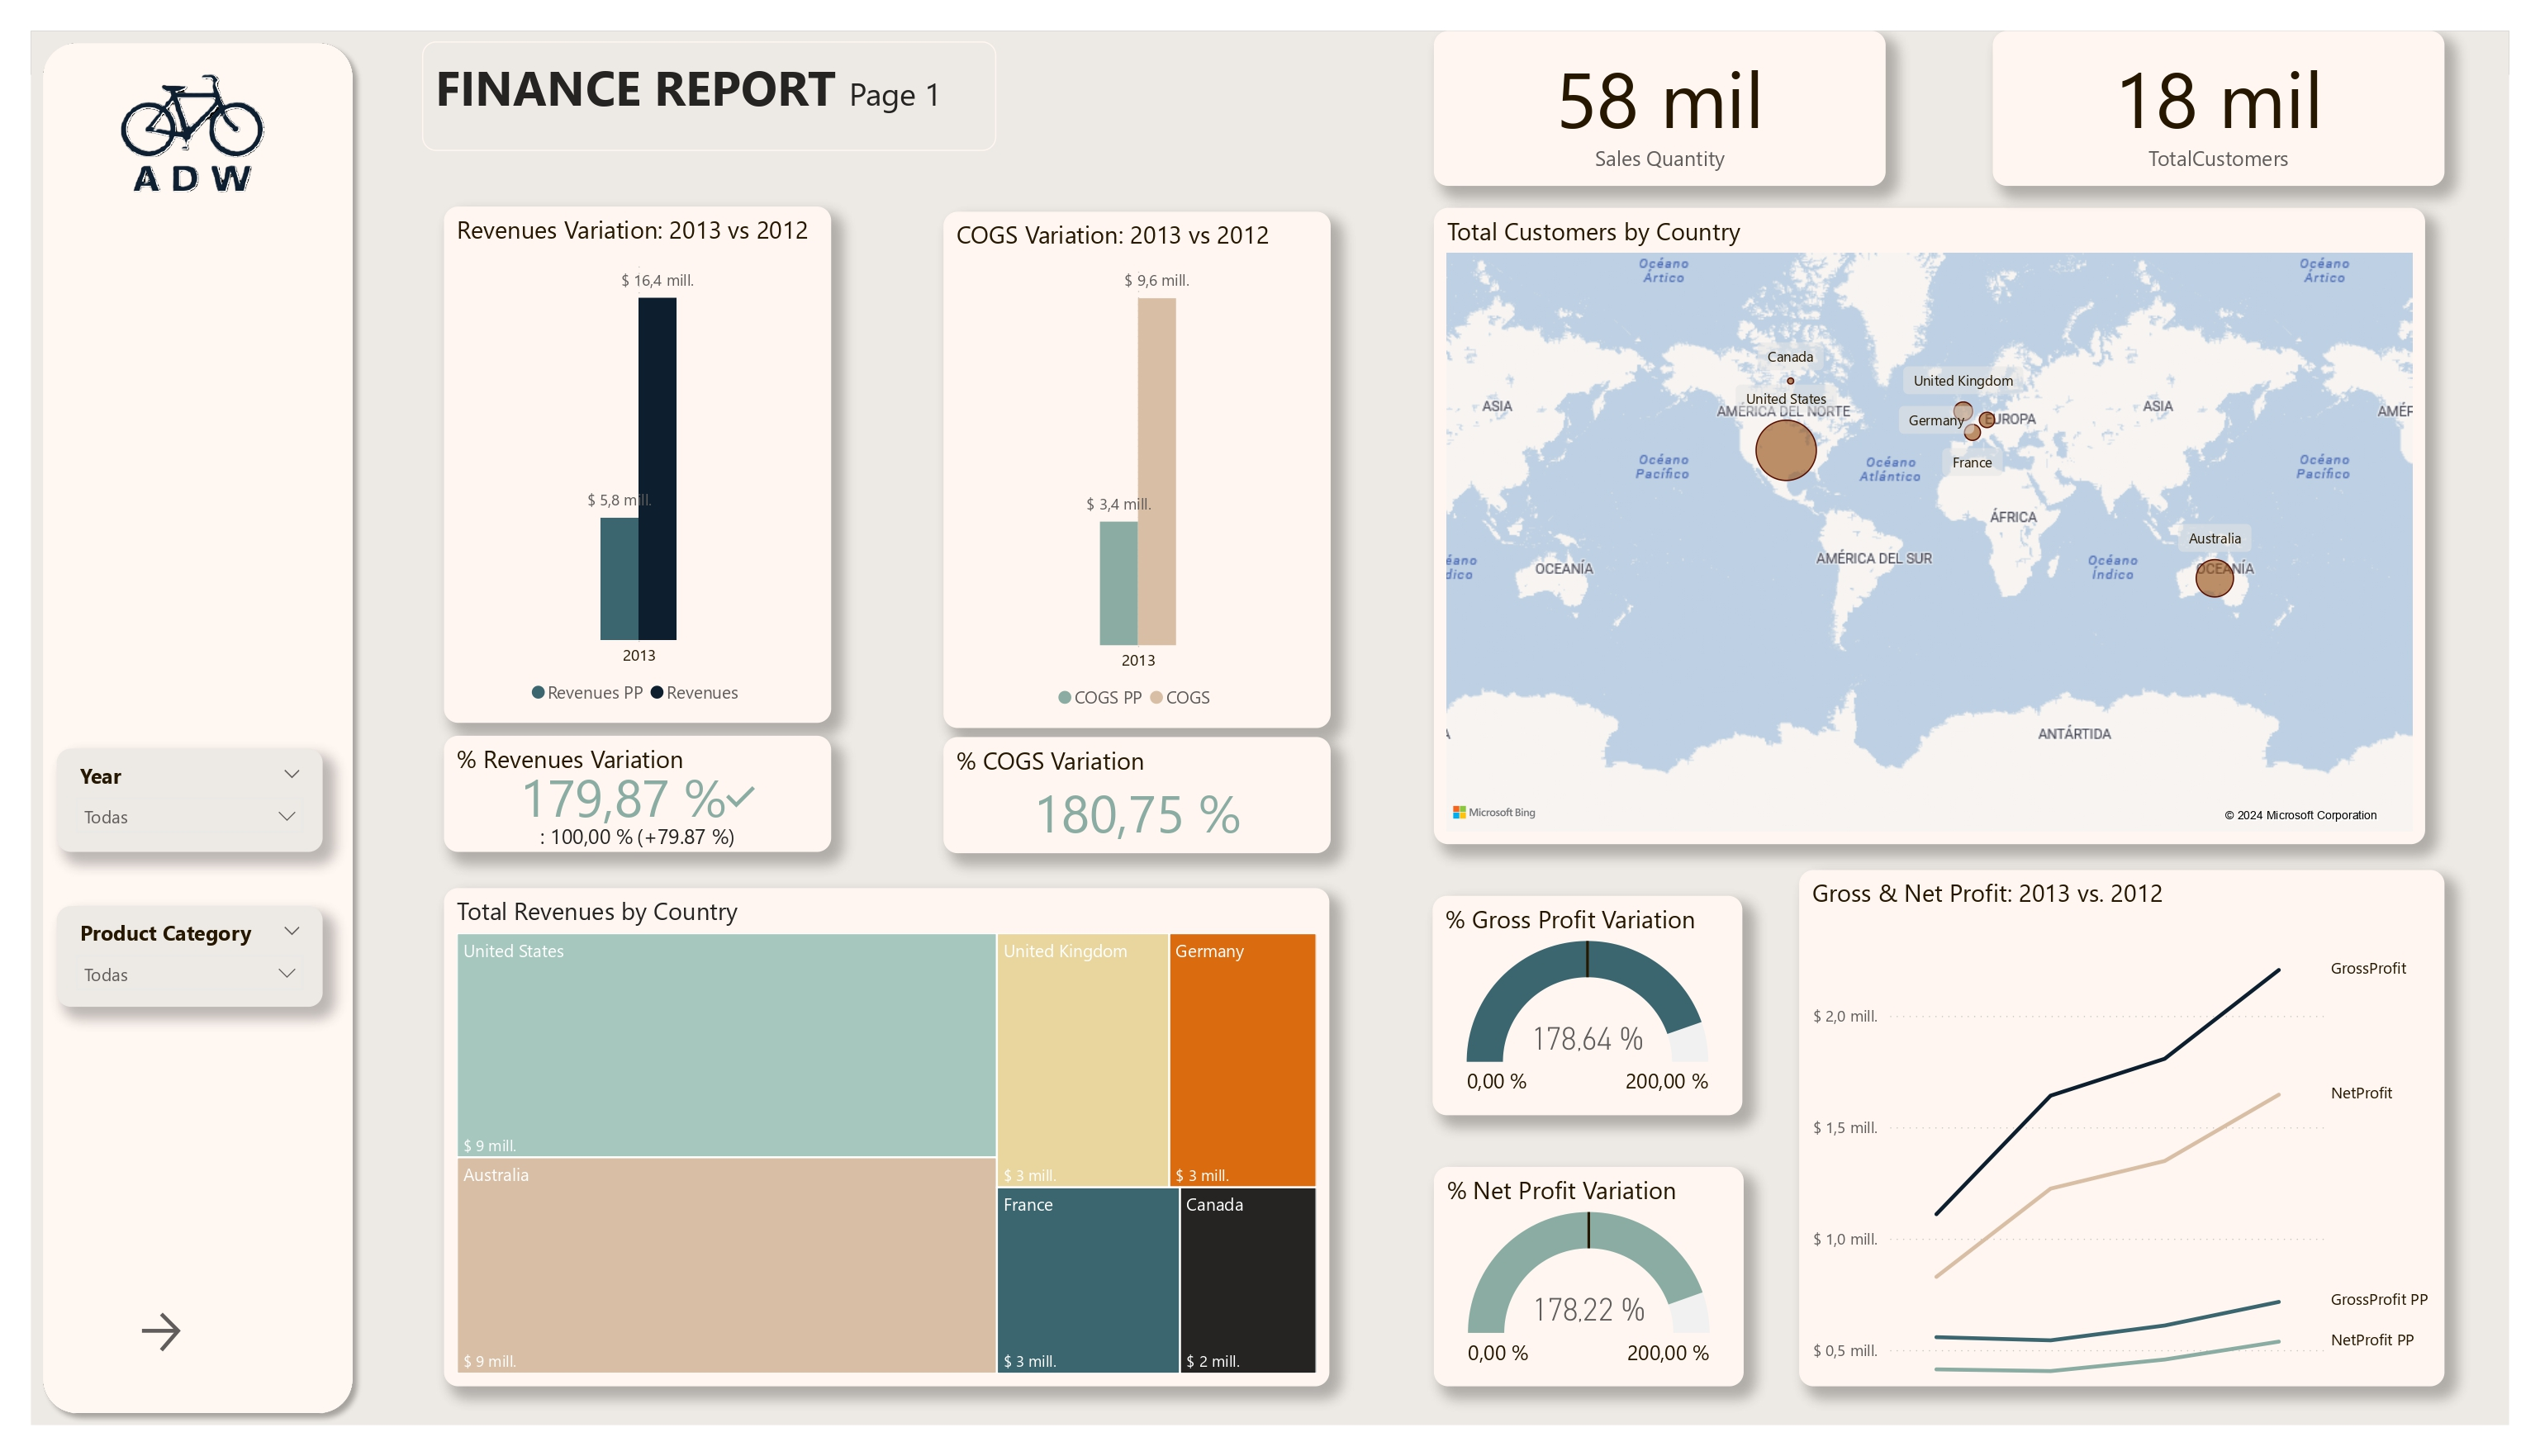

Layout of this report page (visuals, bound fields, positions):
{"tool":"powerbi","page":{"name":"Finance - Page1","canvas":[1920,1080],"ordinal":1},"visuals":[{"type":"shape","box":[0,0,258,1080],"z":0},{"type":"card","fields":{"Values":["Measure.SalesQuantity"]},"box":[1086.7,0,350,120],"z":1000},{"type":"map","title":"Total Customers by Country","fields":{"Category":["DimSalesTerritory.SalesTerritoryCountry"],"Size":["Measure.TotalCustomers"]},"box":[1086.7,136.7,768.3,493.3],"z":2000},{"type":"card","fields":{"Values":["Measure.TotalCustomers"]},"box":[1520,0,350,120],"z":3000},{"type":"slicer","fields":{"Values":["DimDate.CalendarYear"]},"box":[20,556,206,80],"z":4000},{"type":"slicer","fields":{"Values":["DimProductCategory.EnglishProductCategoryName"]},"box":[20,678,206,78],"z":5000},{"type":"image","box":[42.5,2.5,160,150],"z":6000},{"type":"lineChart","title":"Gross & Net Profit: 2013 vs. 2012","fields":{"Y":["Measure.GrossProfit","Measure.NetProfit","Measure.GrossProfit PP","Measure.NetProfit PP"],"Category":["DimDate.CalendarQuarter2"]},"box":[1370,650,500,400],"z":7000},{"type":"gauge","title":"% Net Profit Variation","fields":{"Y":["Measure.% Net Profit Variation"]},"box":[1086.7,880,240,170],"z":8000},{"type":"gauge","title":"% Gross Profit Variation","fields":{"Y":["Measure.% Gross Profit Variation"]},"box":[1086,670,240,170],"z":9000},{"type":"clusteredColumnChart","title":"Revenues Variation: 2013 vs 2012","fields":{"Y":["Measure.Revenues PP","Measure.Revenues"],"Category":["DimDate.CalendarYear"]},"box":[320,136,300,400],"z":10000},{"type":"kpi","title":"% Revenues Variation","fields":{"Indicator":["Measure.%Revenues Variation"],"TrendLine":["DimDate.CalendarYear"],"Goal":["Measure.KPI revenues"]},"box":[320,546,300,90],"z":11000},{"type":"clusteredColumnChart","title":"COGS Variation: 2013 vs 2012","fields":{"Category":["DimDate.CalendarYear"],"Y":["Measure.COGS PP","Measure.COGS"]},"box":[706.7,140,300,400],"z":12000},{"type":"kpi","title":"% COGS Variation","fields":{"TrendLine":["DimDate.CalendarYear"],"Indicator":["Measure.%COGS Variation"]},"box":[706.7,546.7,300,90],"z":13000},{"type":"treemap","title":"Total Revenues by Country","fields":{"Group":["DimSalesTerritory.SalesTerritoryCountry"],"Values":["Measure.Revenues"]},"box":[320,664,686,386],"z":14000},{"type":"textbox","box":[303.3,8.3,445,85],"z":15000},{"type":"actionButton","box":[80,988,100,40],"z":15001}]}

Visuals, with their boxes on the page's 1920x1080 design canvas (x1, y1, x2, y2). These are canvas units, not pixel positions in the 2540x1456 screenshot, which may show the page scaled, cropped or inside an application window:
shape: <region>0, 0, 258, 1080</region>
card - Measure.SalesQuantity: <region>1087, 0, 1437, 120</region>
"Total Customers by Country" map: <region>1087, 137, 1855, 630</region>
card - Measure.TotalCustomers: <region>1520, 0, 1870, 120</region>
slicer - DimDate.CalendarYear: <region>20, 556, 226, 636</region>
slicer - DimProductCategory.EnglishProductCategoryName: <region>20, 678, 226, 756</region>
image: <region>42, 2, 202, 152</region>
"Gross & Net Profit: 2013 vs. 2012" lineChart: <region>1370, 650, 1870, 1050</region>
"% Net Profit Variation" gauge: <region>1087, 880, 1327, 1050</region>
"% Gross Profit Variation" gauge: <region>1086, 670, 1326, 840</region>
"Revenues Variation: 2013 vs 2012" clusteredColumnChart: <region>320, 136, 620, 536</region>
"% Revenues Variation" kpi: <region>320, 546, 620, 636</region>
"COGS Variation: 2013 vs 2012" clusteredColumnChart: <region>707, 140, 1007, 540</region>
"% COGS Variation" kpi: <region>707, 547, 1007, 637</region>
"Total Revenues by Country" treemap: <region>320, 664, 1006, 1050</region>
textbox: <region>303, 8, 748, 93</region>
actionButton: <region>80, 988, 180, 1028</region>
